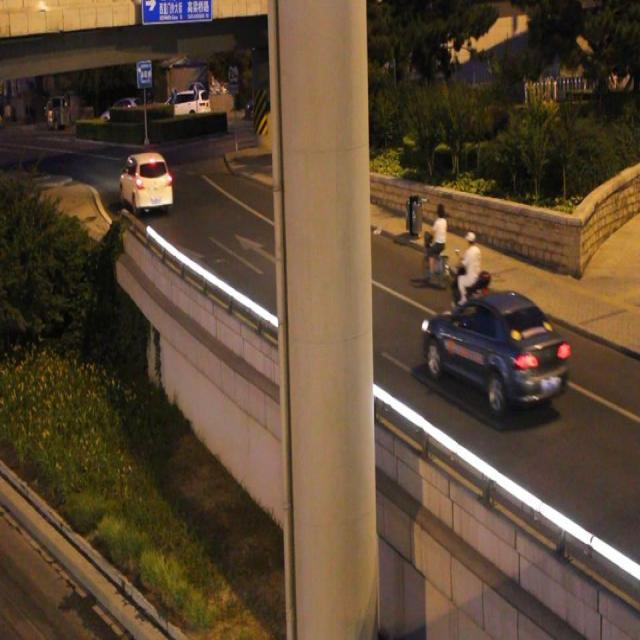car: (419, 288, 568, 414), (120, 150, 174, 213)
